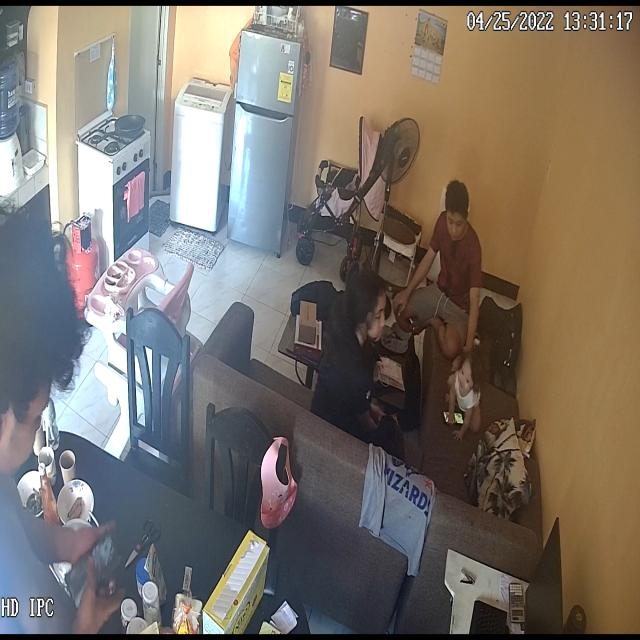adult: (0, 194, 167, 631), (298, 262, 397, 457), (401, 150, 486, 376)
child: (438, 348, 490, 452)
